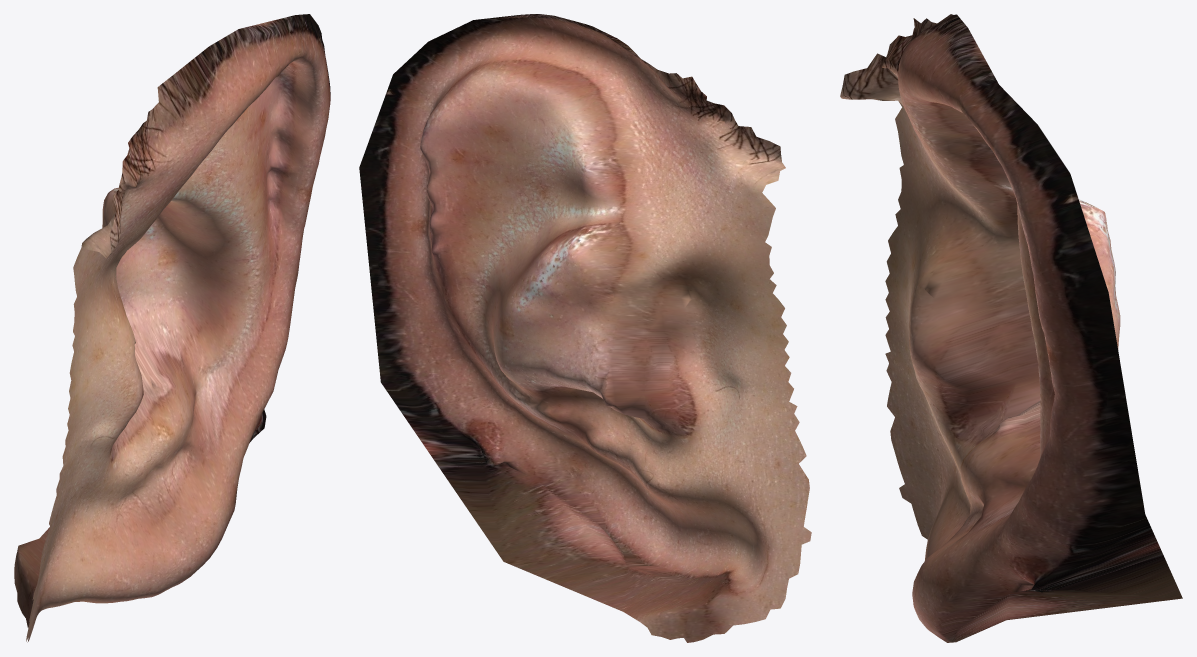
File: ear03left.obj
3 views of the same model, side by side, from view 1: azimuth 30°, elevation 25°; view 2: azimuth 150°, elevation 25°; view 3: azimuth 270°, elevation 25° (orthographic). The views are drawn at different scales.
Visible parts, largest first — view 1: default; view 2: default; view 3: default.
Part boxes in pixels (box(x1,y1,x2,y2)): default: box(14, 14, 330, 642); default: box(359, 14, 811, 642); default: box(840, 14, 1182, 642).
Size of the model in its own units: 45.15 by 65.35 by 29.15.
1 material, 1 textured.
